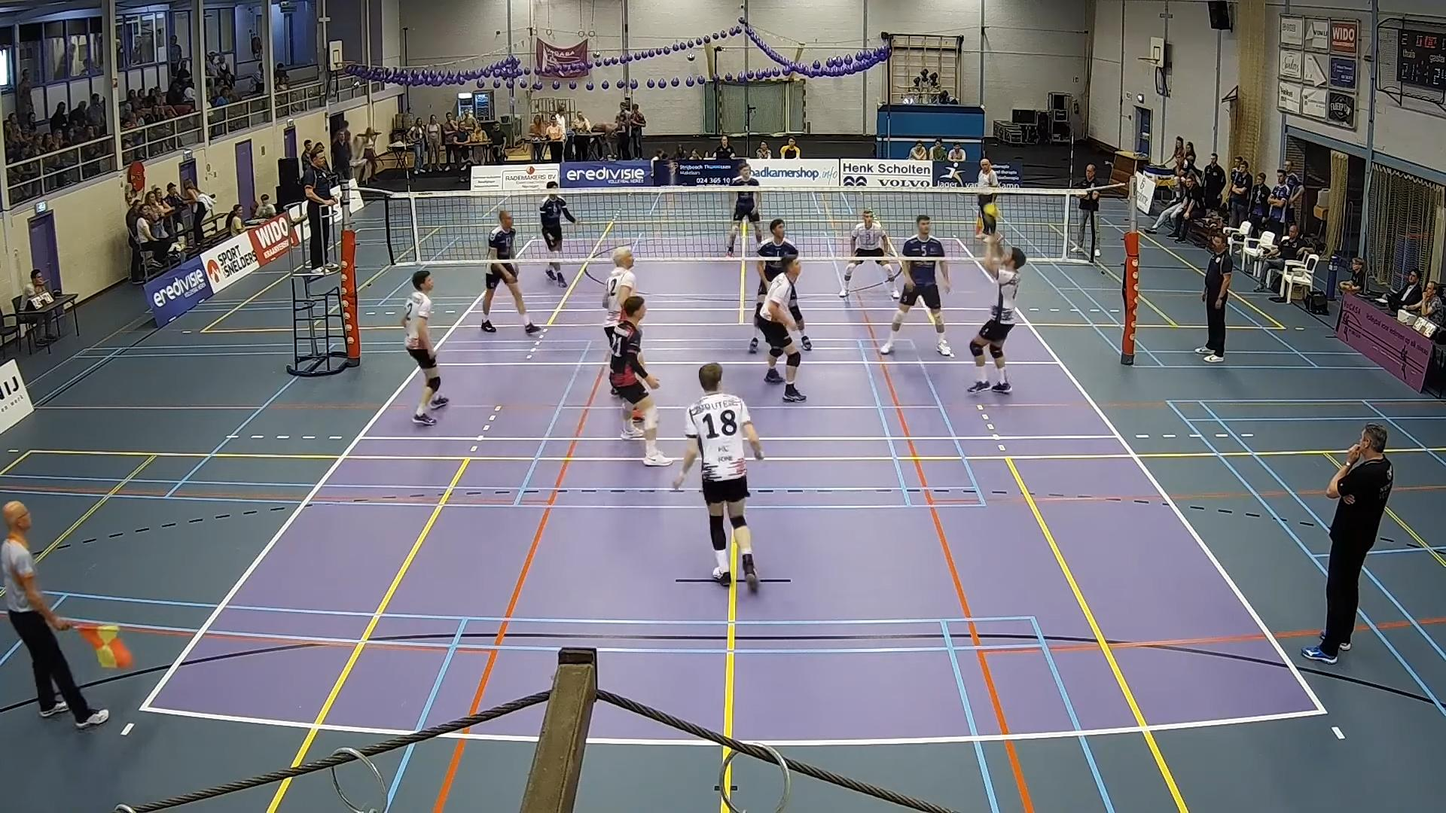alzata: (958, 226, 1026, 395)
